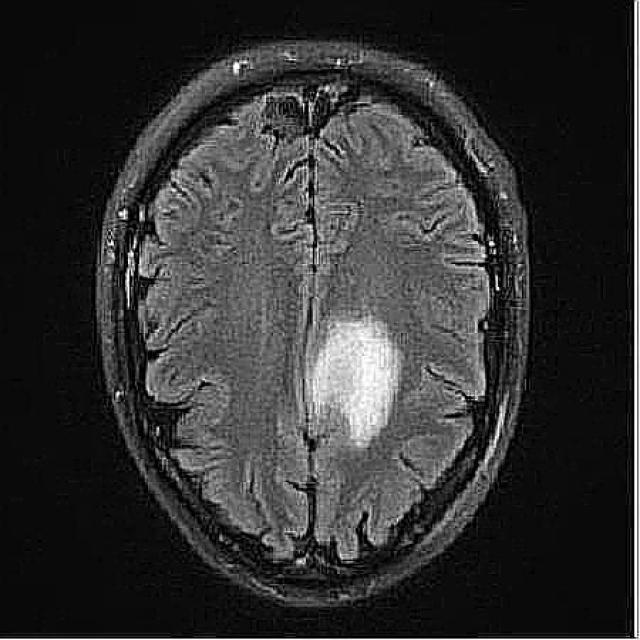Tumor-Cell: (299, 300, 407, 455)
